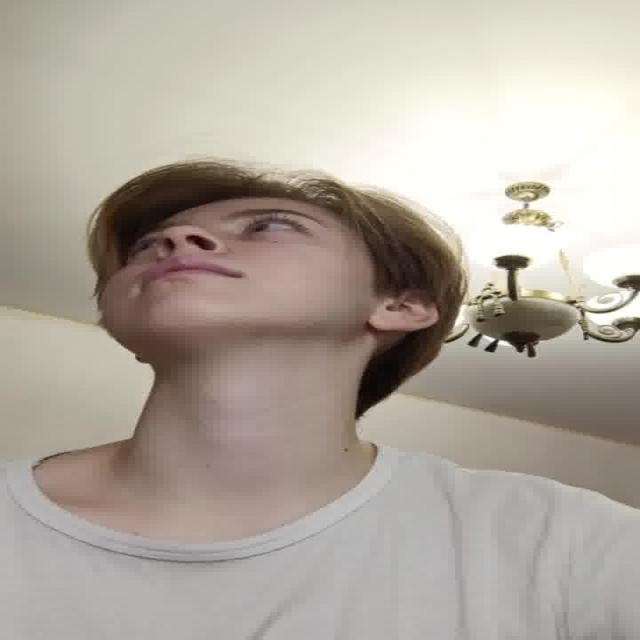earlobe: (369, 286, 441, 334)
